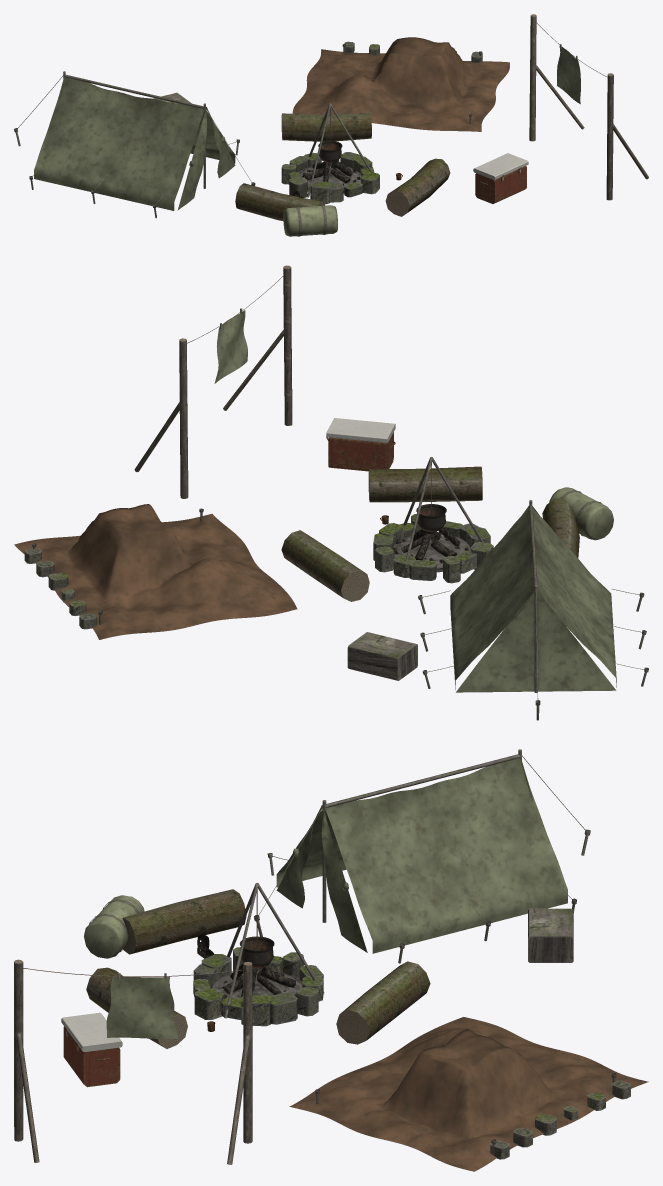
Rendered from camp.glb.
3 renders of one model, top to bottom at view 1: azimuth 30°, elevation 25°; view 2: azimuth 150°, elevation 25°; view 3: azimuth 270°, elevation 25°, orthographic. The views are drawn at different scales.
Parts seen in each view (by area): view 1: camp; view 2: camp; view 3: camp.
Part boxes in pixels (x1,y1,x2,y2): camp: (14, 14, 648, 236); camp: (14, 265, 648, 720); camp: (14, 749, 648, 1171).
Bounding box in the file's own units: 8.9 × 2.15 × 6.92.
1 material, 1 textured.
